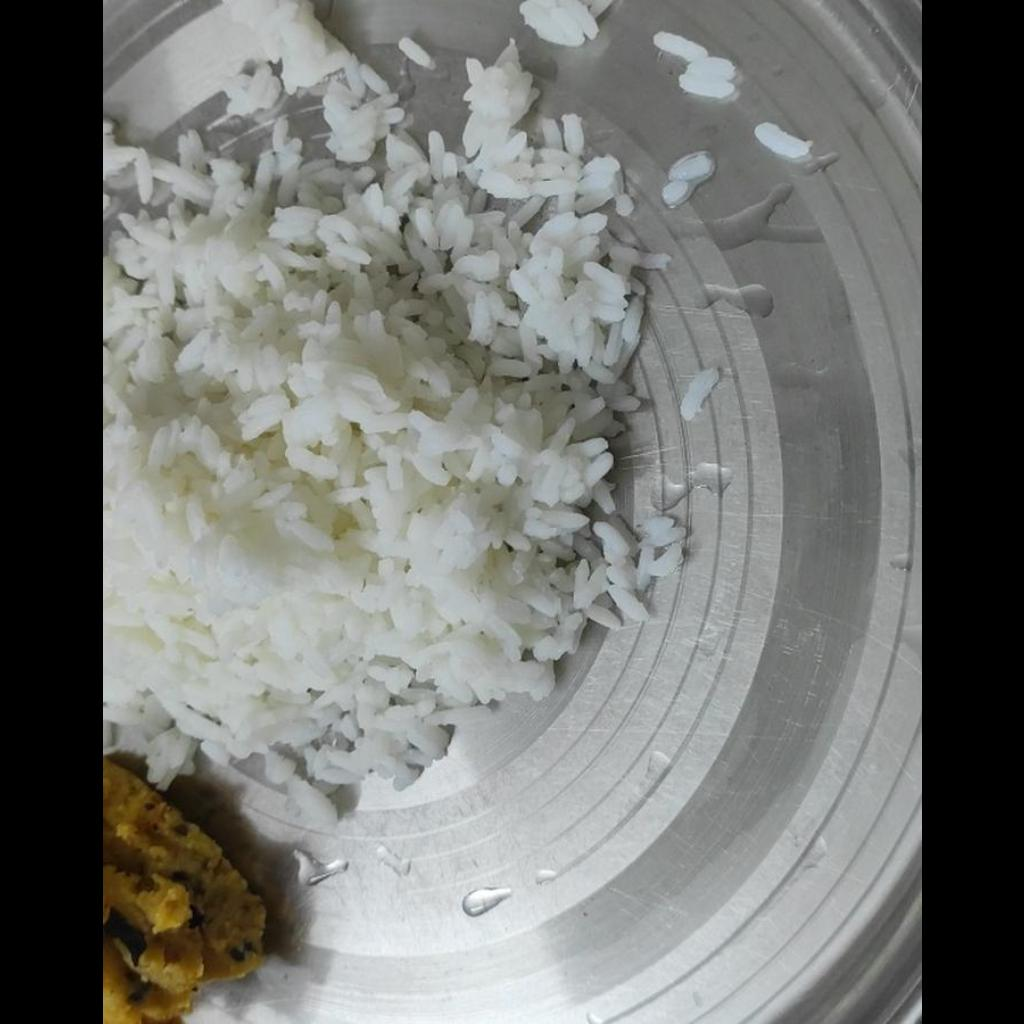rice: (102, 39, 689, 820)
